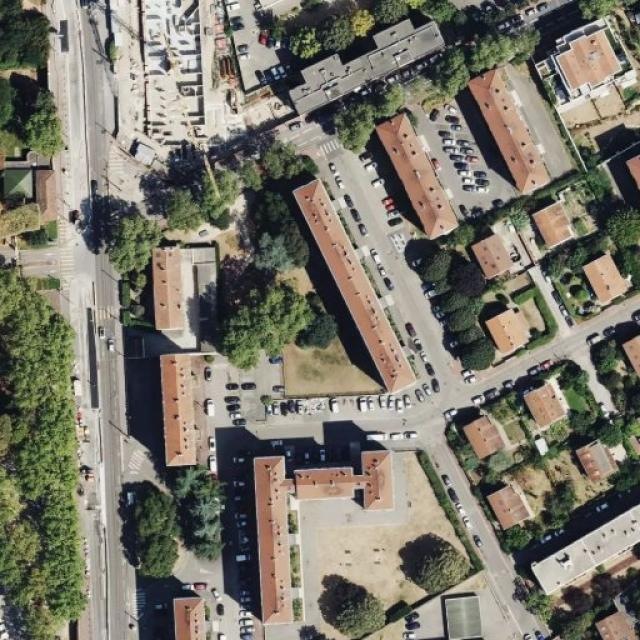immeuble: (296, 158, 416, 378), (256, 441, 394, 620), (288, 7, 442, 115), (380, 110, 460, 238), (474, 62, 553, 189), (536, 504, 638, 599), (161, 340, 200, 452), (562, 26, 613, 94), (188, 228, 217, 338), (152, 227, 182, 322), (168, 590, 209, 640)
maison: (2, 139, 56, 211), (488, 298, 524, 349), (587, 254, 625, 302), (535, 205, 573, 251), (581, 435, 620, 478), (464, 413, 504, 454), (490, 486, 529, 528), (475, 212, 511, 257), (529, 384, 567, 424)
